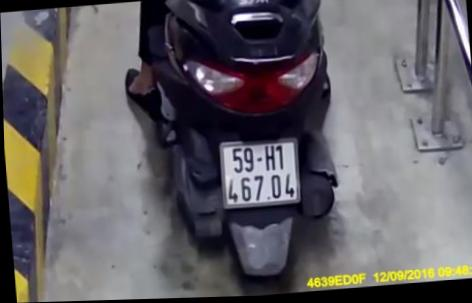LP: (217, 138, 299, 210)
